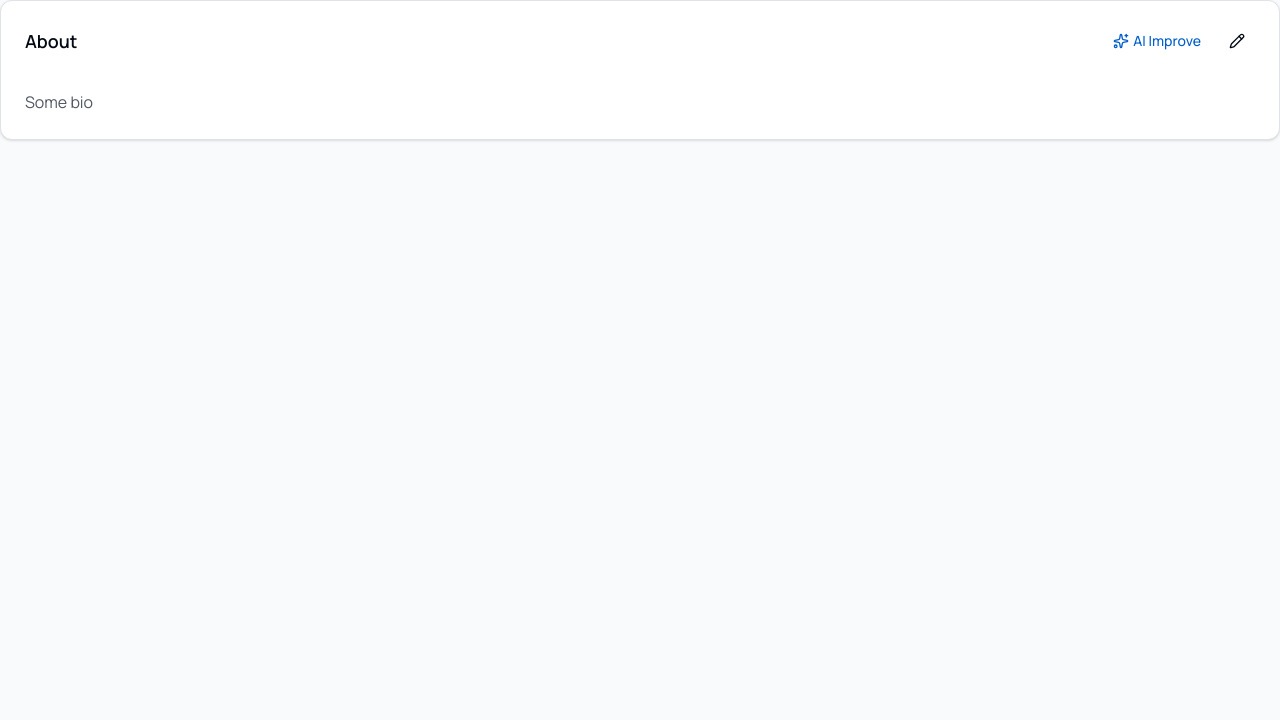
Test: AboutSection › opens edit dialog when edit button is clicked
The width and height of the screenshot is (1280, 720).
Click the 2nd button at (1237, 41), box [1219,25,1255,57]
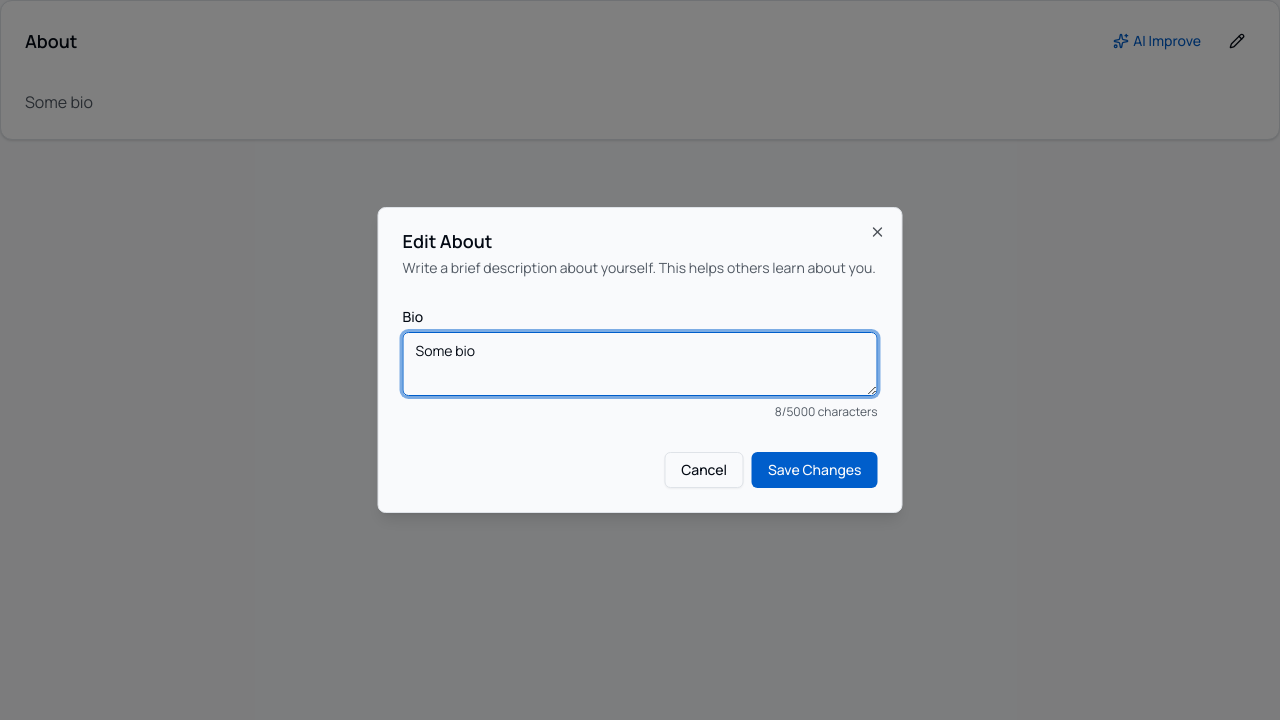
Now the dialog is shown, box [378,207,902,513]
Now the heading "Edit About" is shown, box [402,229,492,253]
